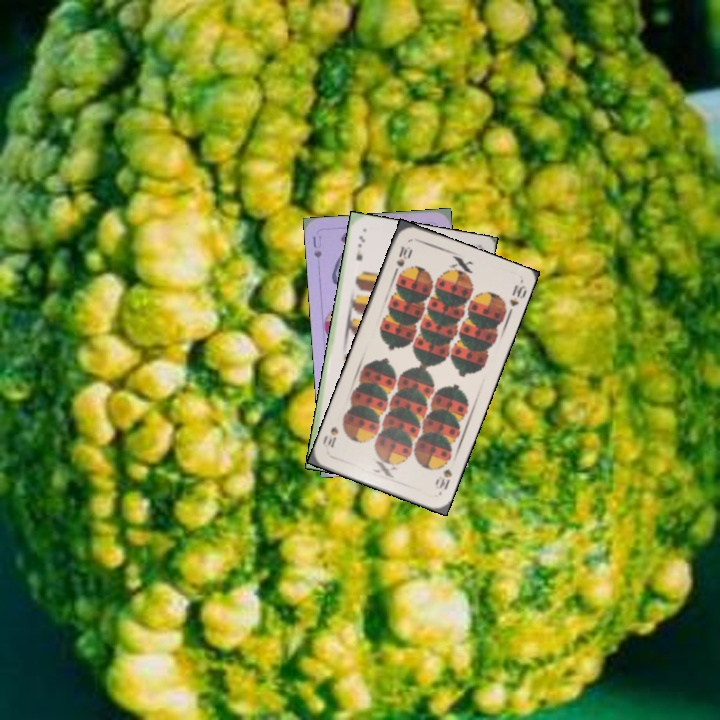E7: (352, 232, 368, 263)
S10: (390, 242, 413, 277), (432, 464, 455, 492)
SU: (309, 232, 324, 261)
